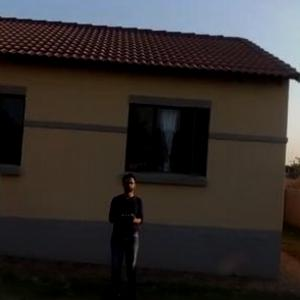follow: (105, 166, 146, 299)
